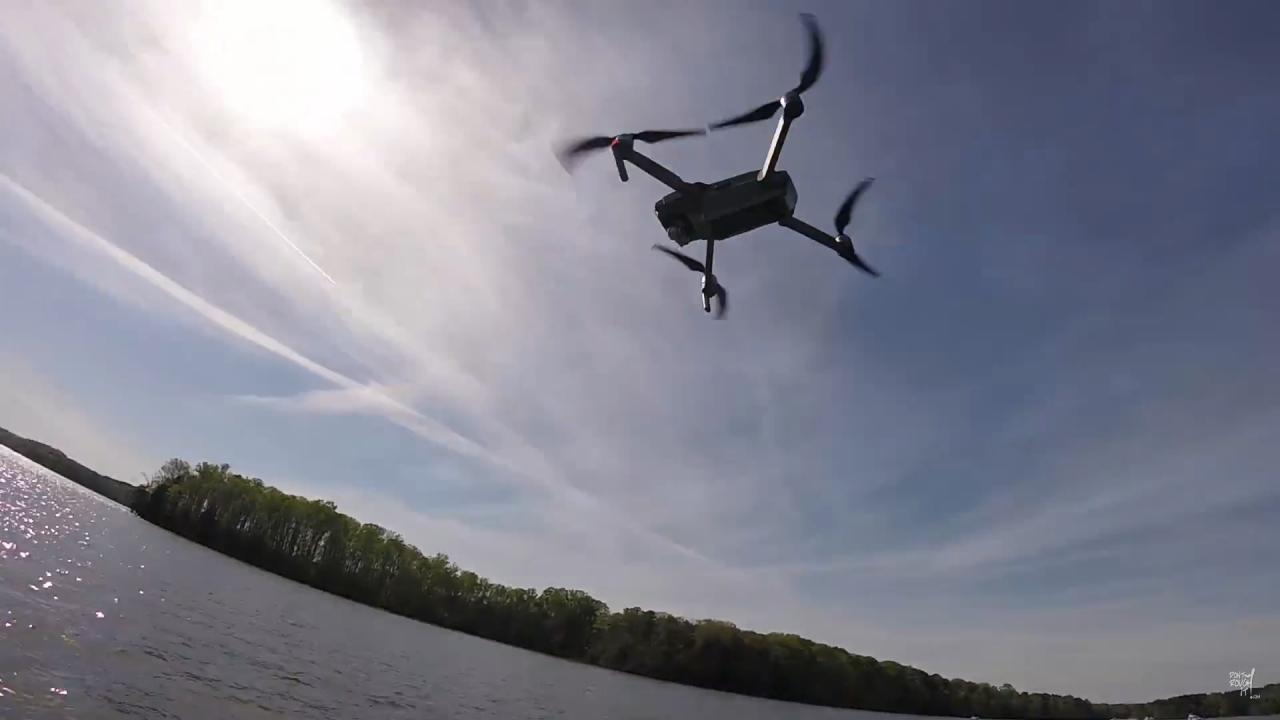Drone: (542, 7, 892, 328)
